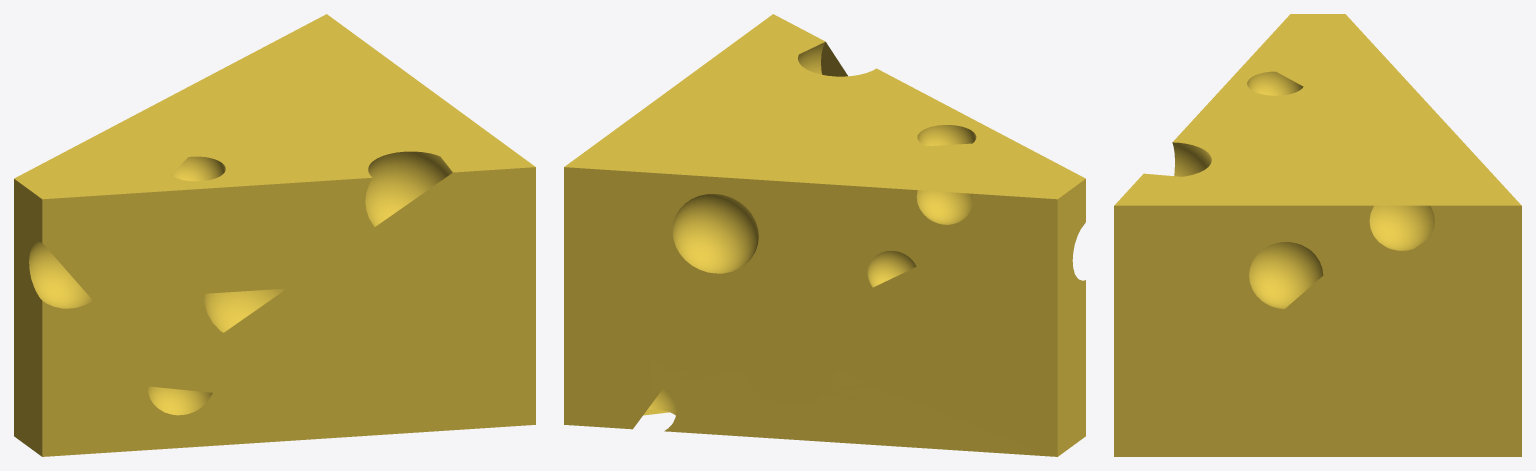
Rendered from cheese.fbx.
3 renders of one model, left to right at view 1: azimuth 30°, elevation 25°; view 2: azimuth 150°, elevation 25°; view 3: azimuth 270°, elevation 25°, orthographic. The views are drawn at different scales.
Parts seen in each view (by area): view 1: Cube; view 2: Cube; view 3: Cube.
Boxes of the visible parts, box(x1,y1,x2,y2) form: Cube: box(14, 14, 535, 456); Cube: box(564, 14, 1085, 456); Cube: box(1114, 14, 1521, 456).
Bounding box in the file's own units: 316 × 193 × 284.
